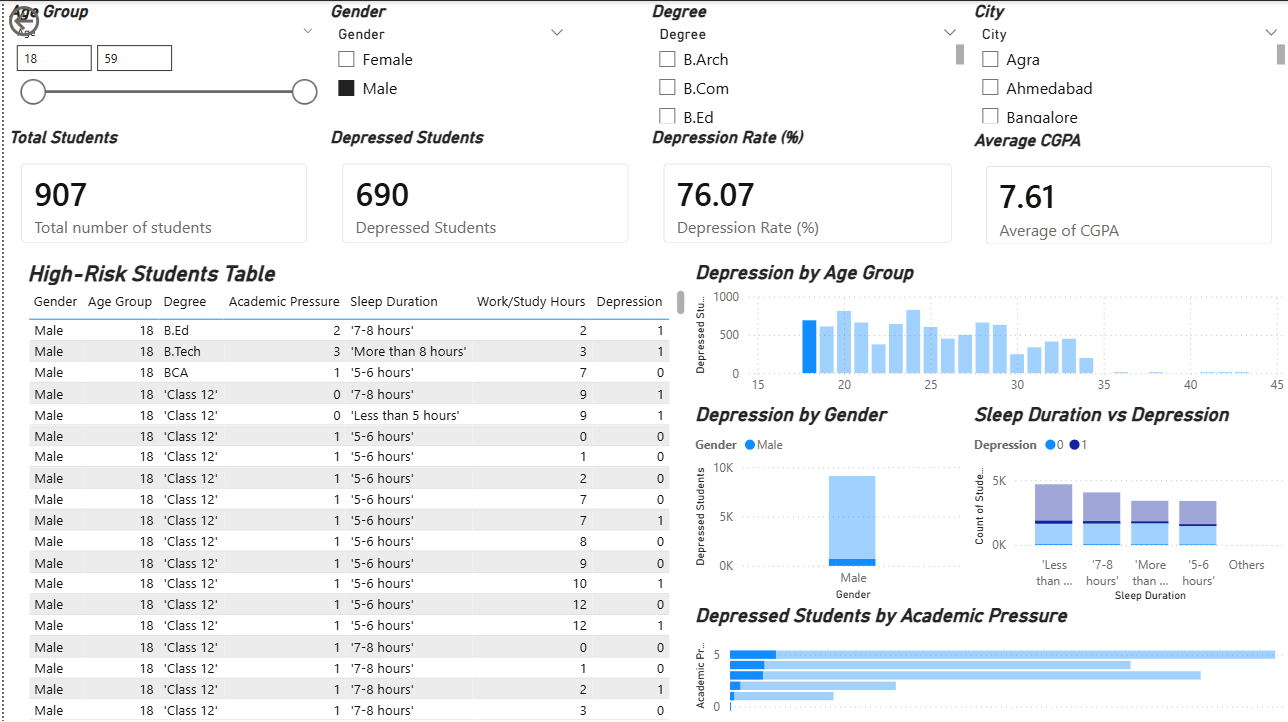

Layout of this report page (visuals, bound fields, positions):
{"tool":"powerbi","page":{"name":"Page 1","canvas":[1280,720],"ordinal":0},"visuals":[{"type":"slicer","title":"Age Group","fields":{"Values":["student_depression_dataset.Age"]},"box":[0,0,319.7,126.2],"z":0},{"type":"slicer","title":"Gender","fields":{"Values":["student_depression_dataset.Gender"]},"box":[319.7,0,249.7,126.2],"z":1000},{"type":"slicer","title":"Degree","fields":{"Values":["student_depression_dataset.Degree"]},"box":[639.5,0,321.1,126.2],"z":2000},{"type":"slicer","title":"City","fields":{"Values":["student_depression_dataset.City"]},"box":[960.6,0,319.7,126.2],"z":3000},{"type":"cardVisual","title":"Total Students","fields":{"Data":["CountNonNull(student_depression_dataset.id)"]},"box":[0,126.2,319.7,133.1],"z":4000},{"type":"cardVisual","title":"Depressed Students","fields":{"Data":["student_depression_dataset.Depressed Students"]},"box":[319.7,126.2,319.7,133.1],"z":5000},{"type":"cardVisual","title":"Depression Rate (%)","fields":{"Data":["student_depression_dataset.Depression Rate (%)"]},"box":[639.5,126.2,321.1,133.1],"z":6000},{"type":"cardVisual","title":"Average CGPA","fields":{"Data":["Avg(student_depression_dataset.CGPA)"]},"box":[960.6,127.6,319.7,131.7],"z":7000},{"type":"clusteredColumnChart","title":"Depression by Age Group","fields":{"Category":["student_depression_dataset.Age"],"Y":["student_depression_dataset.Depressed Students"]},"box":[682.9,258.7,597.1,141.8],"z":8000},{"type":"clusteredColumnChart","title":"Depression by Gender","fields":{"Category":["student_depression_dataset.Gender"],"Y":["student_depression_dataset.Depressed Students"],"Series":["student_depression_dataset.Gender"]},"box":[682.9,400.6,277.4,201.5],"z":9000},{"type":"clusteredBarChart","fields":{"Category":["student_depression_dataset.Academic Pressure"],"Y":["student_depression_dataset.Depressed Students"]},"box":[682.9,600.8,597.1,119.4],"z":10000},{"type":"columnChart","title":"Sleep Duration vs Depression","fields":{"Category":["student_depression_dataset.Sleep Duration"],"Series":["student_depression_dataset.Depression"],"Y":["CountNonNull(student_depression_dataset.id)"]},"box":[960.6,400.7,319.7,201.7],"z":11000},{"type":"tableEx","title":"High-Risk Students Table","fields":{"Values":["student_depression_dataset.Gender","student_depression_dataset.Age","student_depression_dataset.Degree","student_depression_dataset.Academic Pressure","student_depression_dataset.Sleep Duration","student_depression_dataset.Work/Study Hours","student_depression_dataset.Depression"]},"box":[18.7,258.7,664.3,461.5],"z":11001},{"type":"actionButton","box":[0,0,100,40],"z":11002}]}

Visuals, with their boxes in screenshot pixels (x1, y1, x2, y2), scaled from the page's 1280x720 canvas onto the 1288x722 screenshot:
"Age Group" slicer: (0, 0, 322, 127)
"Gender" slicer: (322, 0, 573, 127)
"Degree" slicer: (643, 0, 967, 127)
"City" slicer: (967, 0, 1287, 127)
"Total Students" cardVisual: (0, 127, 322, 260)
"Depressed Students" cardVisual: (322, 127, 643, 260)
"Depression Rate (%)" cardVisual: (643, 127, 967, 260)
"Average CGPA" cardVisual: (967, 128, 1287, 260)
"Depression by Age Group" clusteredColumnChart: (687, 259, 1287, 402)
"Depression by Gender" clusteredColumnChart: (687, 402, 966, 604)
clusteredBarChart - student_depression_dataset.Academic Pressure x student_depression_dataset.Depressed Students: (687, 602, 1287, 721)
"Sleep Duration vs Depression" columnChart: (967, 402, 1287, 604)
"High-Risk Students Table" tableEx: (19, 259, 687, 721)
actionButton: (0, 0, 101, 40)
